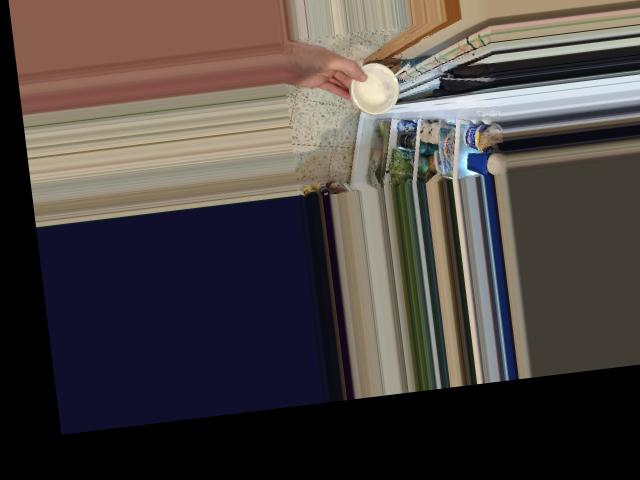cotage: (345, 64, 404, 117)
